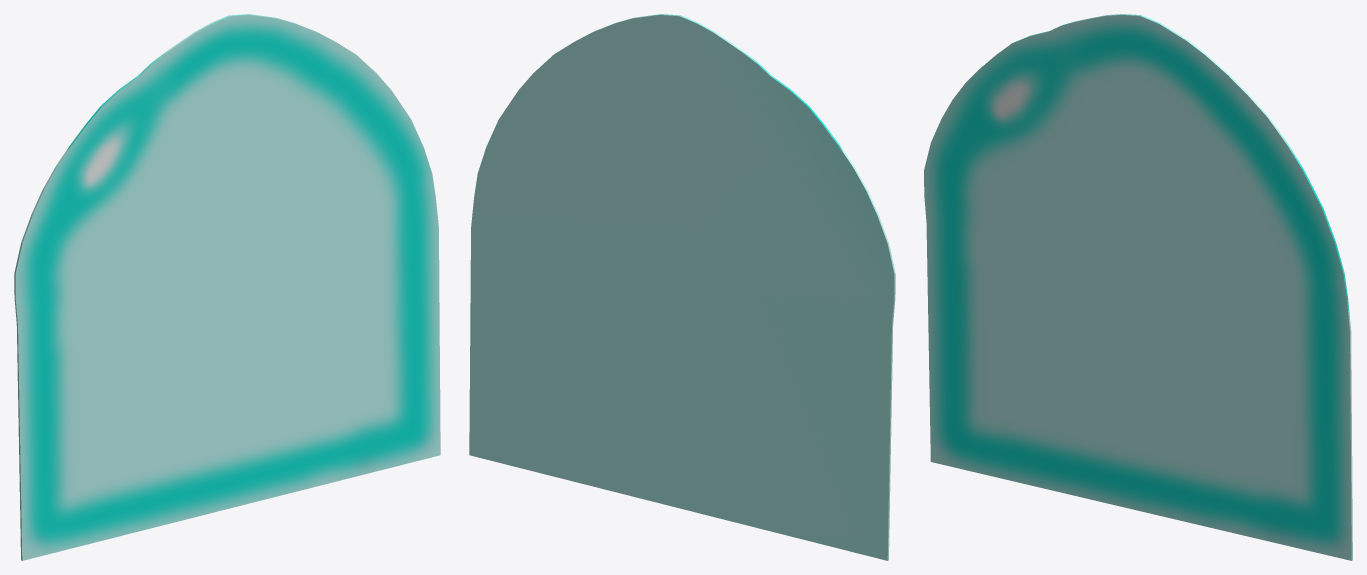
The model's file is Immune.glb.
3 renders of one model, left to right at view 1: azimuth 30°, elevation 25°; view 2: azimuth 150°, elevation 25°; view 3: azimuth 330°, elevation 25°, orthographic.
Parts seen in each view (by area): view 1: Circle.005; view 2: Circle.005; view 3: Circle.005.
Boxes of the visible parts, left/top/right/bottom form: Circle.005: left=14, top=14, right=440, bottom=560; Circle.005: left=469, top=14, right=895, bottom=560; Circle.005: left=924, top=14, right=1352, bottom=560.
Bounding box in the file's own units: 4.51 × 5.01 × 0.022.
1 material, 1 textured.
